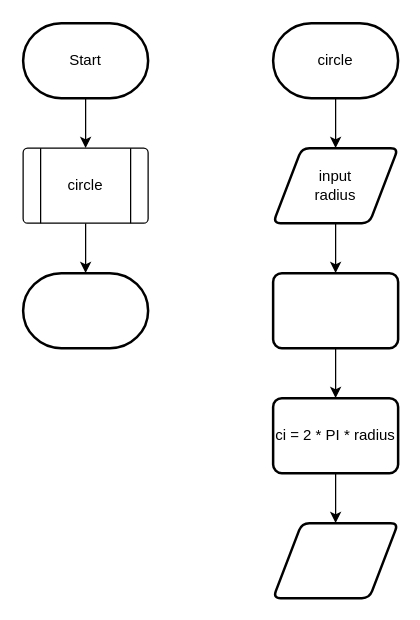
The diagram is 420 pixels wide and 620 high, and some of its shapes have lost their labels. Each missing label, with the centre of its shape:
"area = PI * radius * radius" goes at (x=335, y=310).
"End" goes at (x=85, y=310).
"print area ci" goes at (x=335, y=560).
